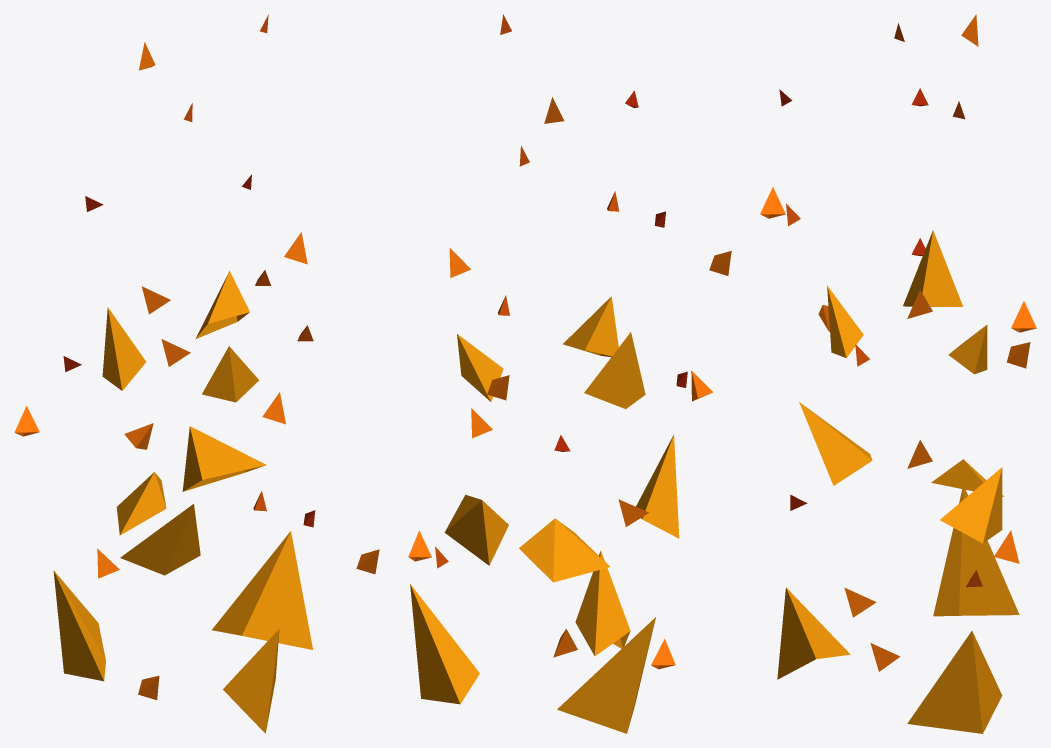
File: firespell3.obj
The picture shows the model from 3 angles, left to right: view 1: azimuth 30°, elevation 25°; view 2: azimuth 150°, elevation 25°; view 3: azimuth 270°, elevation 25°; orthographic projection. The views are drawn at different scales.
Parts seen in each view (by area): view 1: firespell3_back; view 2: firespell3_back; view 3: firespell3_back.
Boxes of the visible parts, x1,y1,x2,y2 form: firespell3_back: [14, 14, 379, 733]; firespell3_back: [408, 14, 731, 733]; firespell3_back: [760, 14, 1036, 733].
Size of the model in its own units: 1.65 by 3.52 by 1.28.
